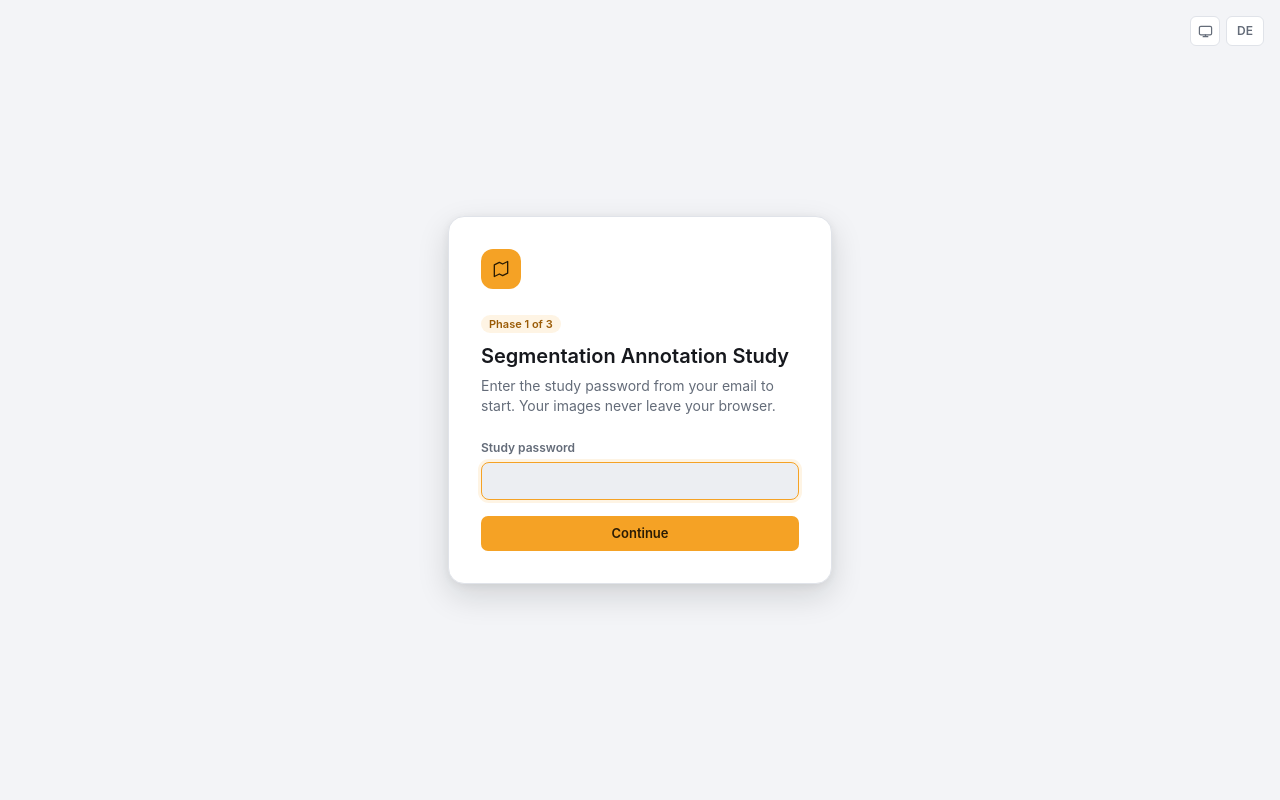
Test: App › study entry flow › walks from the password through consent and the survey into the workspace
Later steps or results of the test are not shown.
Type "CI-studie-2026-teil1" into the password field labelled "Study password" at (640, 481), box [481, 462, 799, 500]
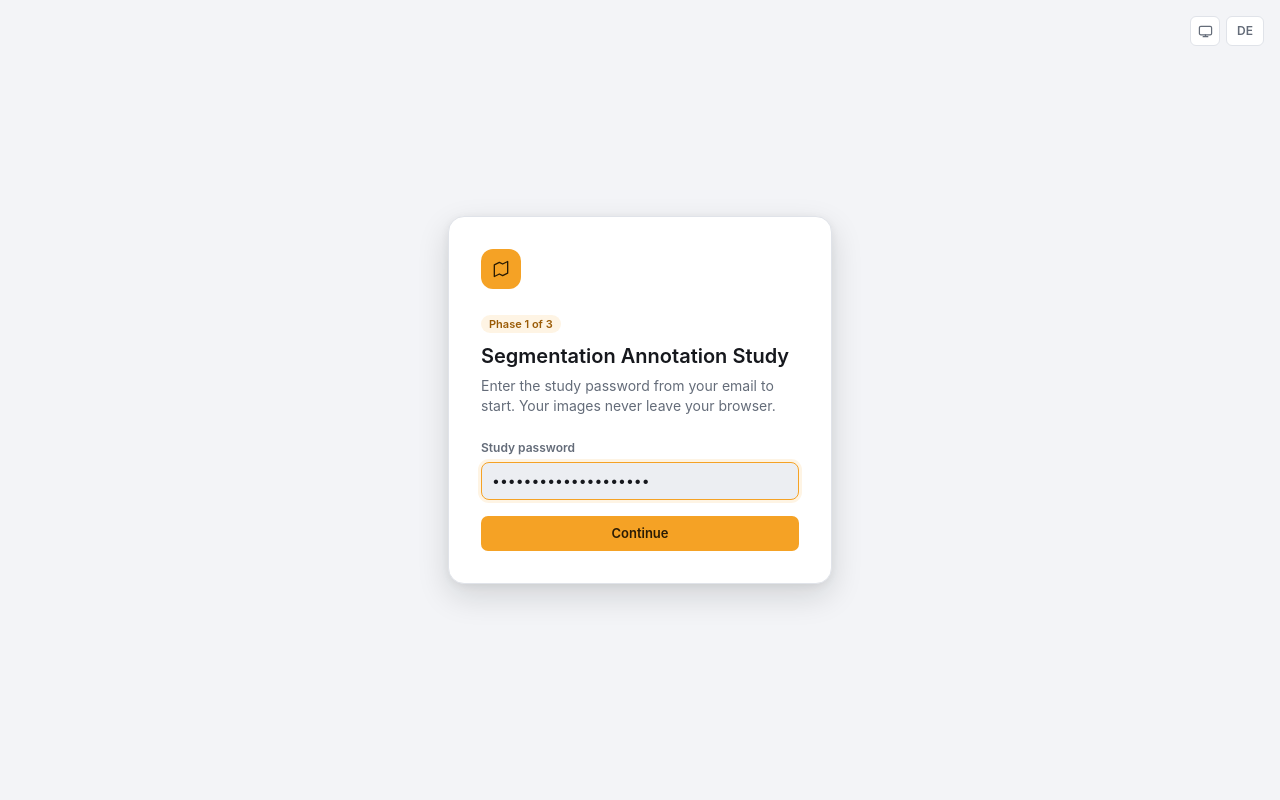
Click the button "Continue" at (640, 533), box [481, 516, 799, 551]
(page scrolled)
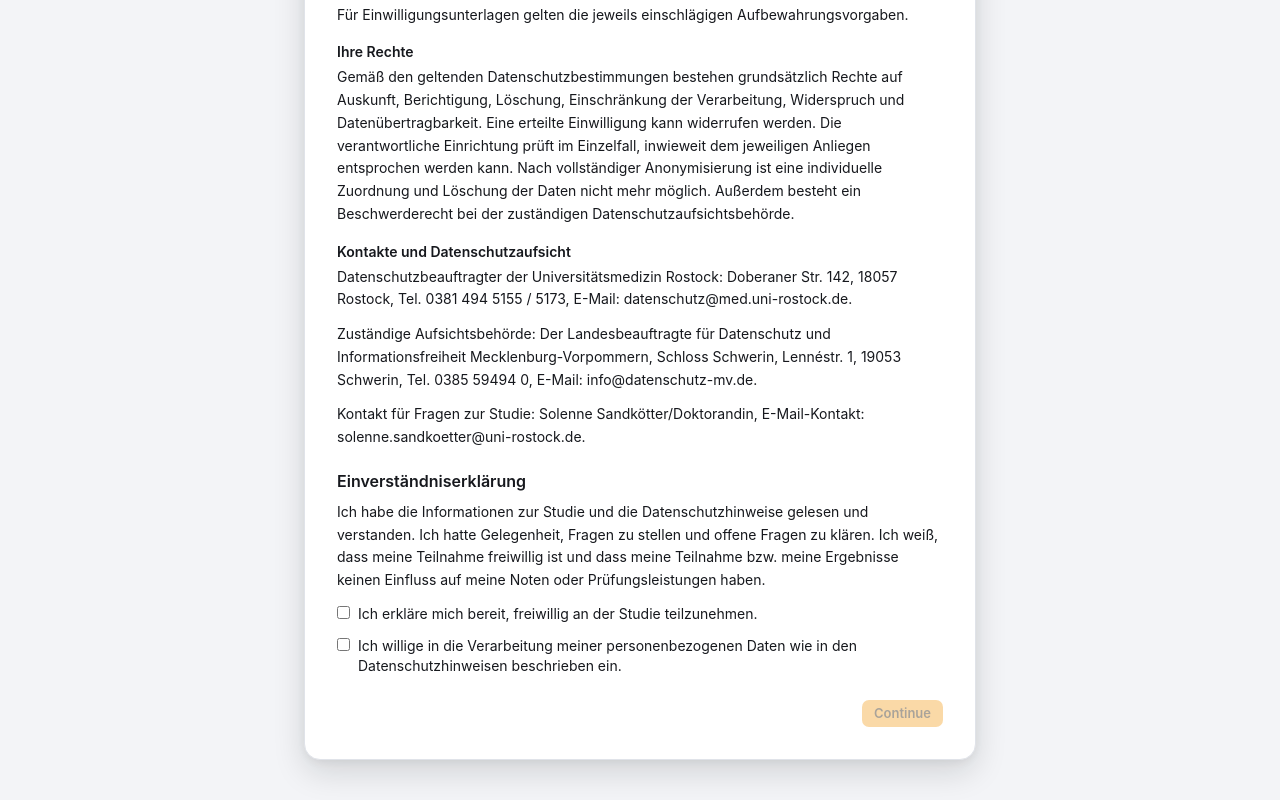
Click the checkbox labelled "freiwillig an der Studie teilzunehmen" at (344, 612), box [337, 606, 350, 619]
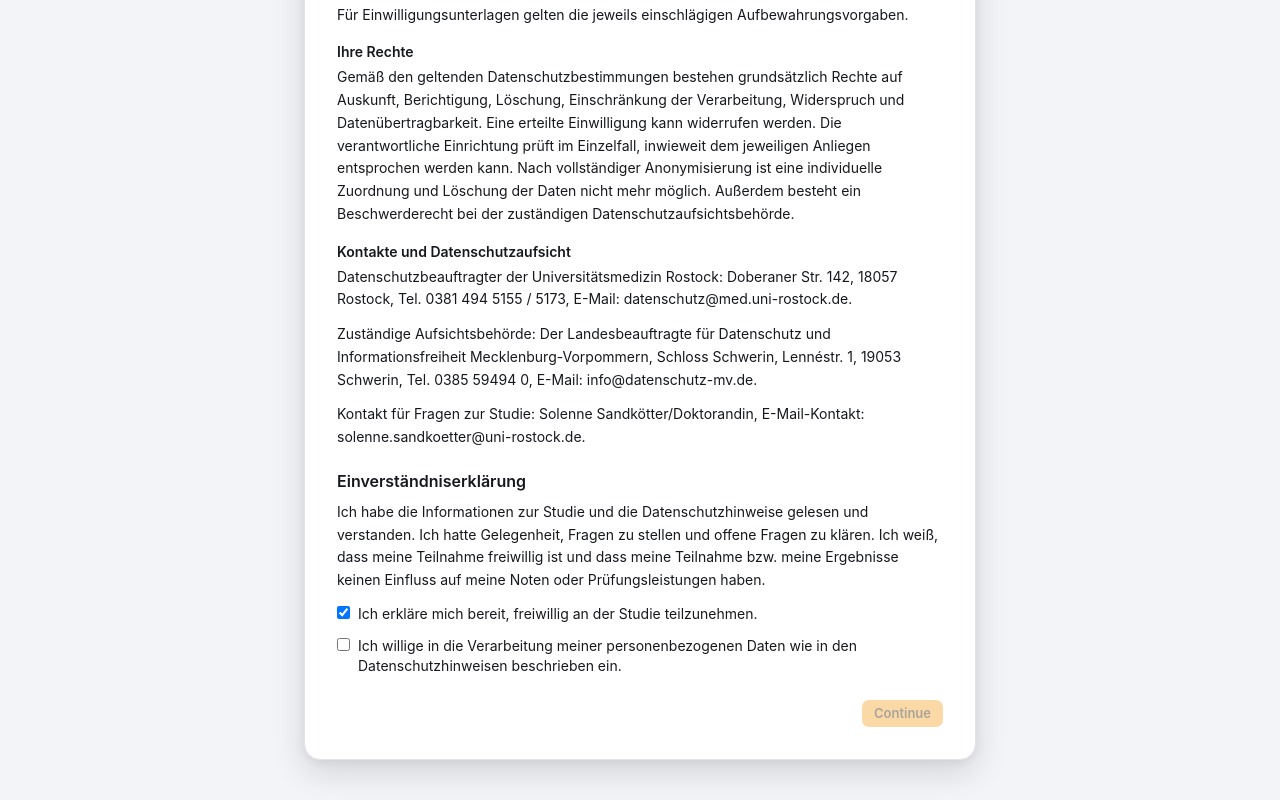
Click the checkbox labelled "Verarbeitung meiner personenbezogenen Daten" at (344, 644), box [337, 638, 350, 651]
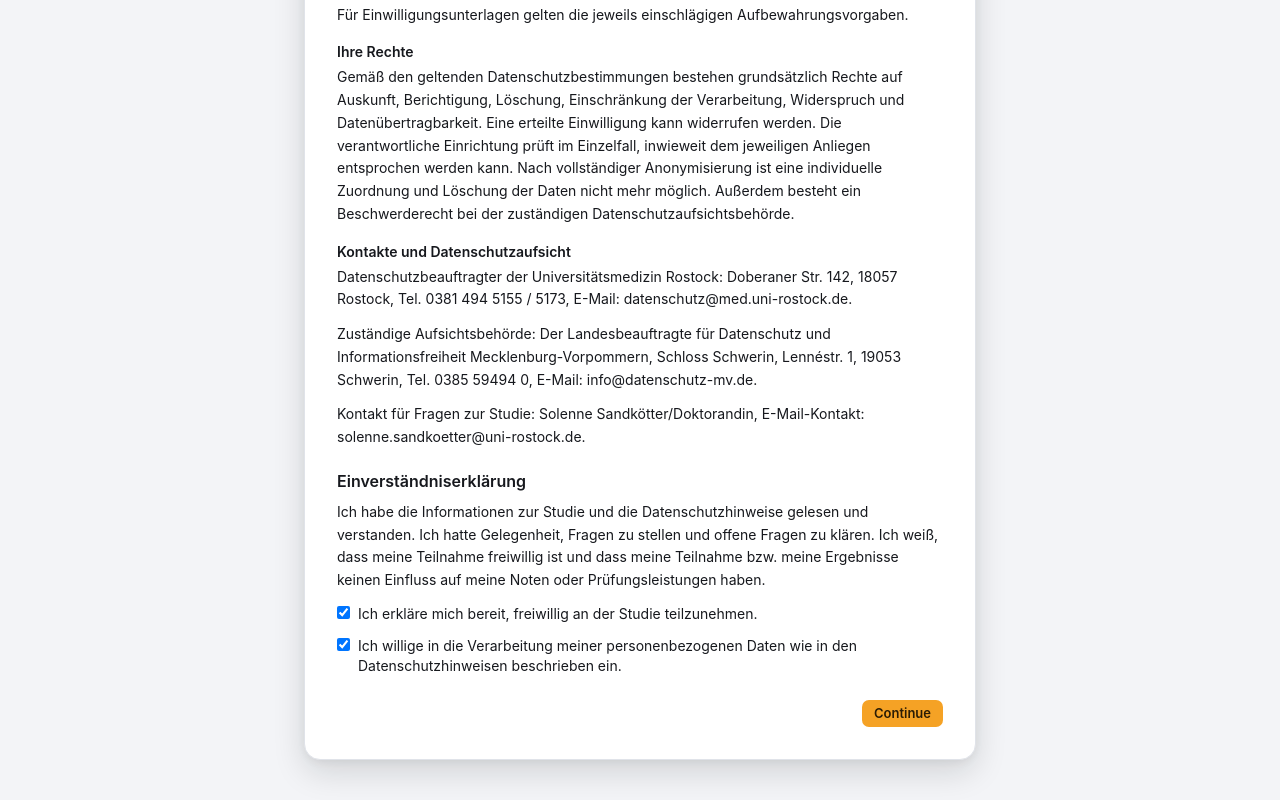
Click the button "Continue" at (902, 713), box [862, 700, 943, 727]
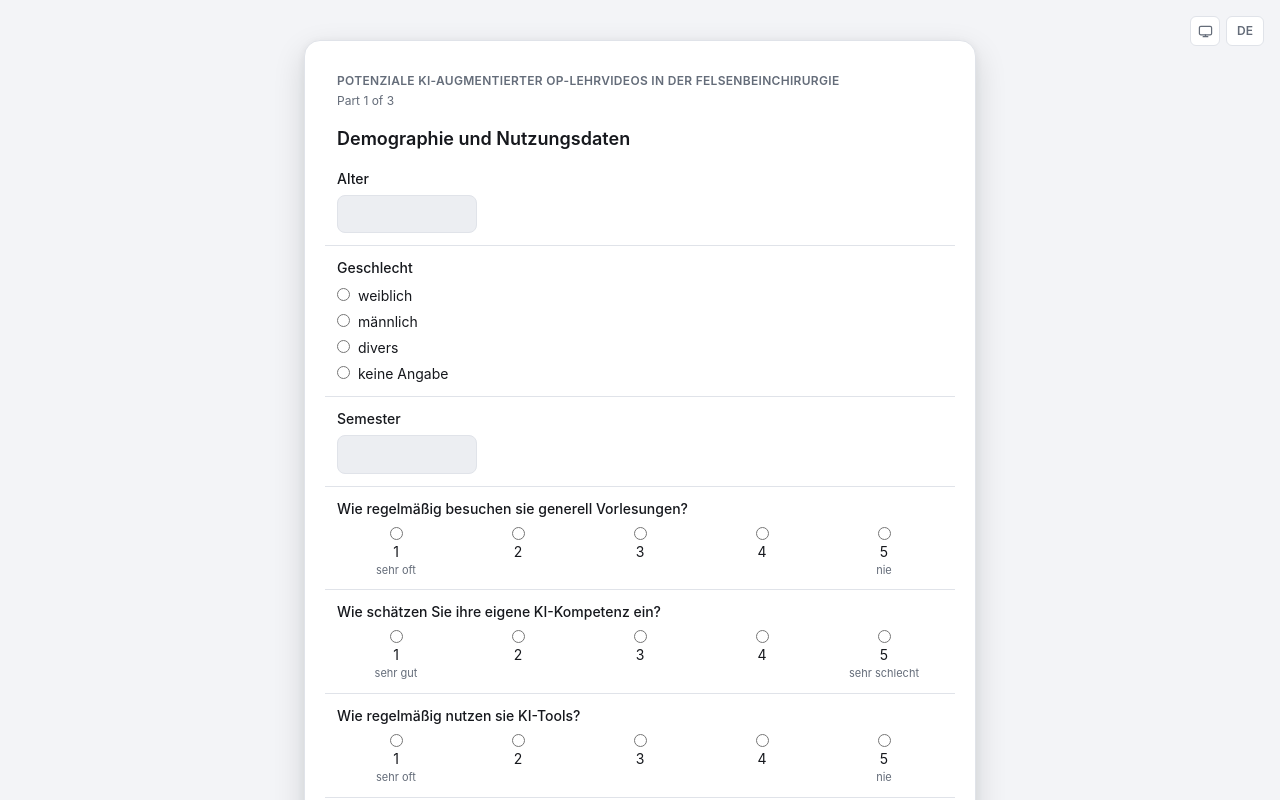
expect the text "Part 1 of 3" is shown: met, box [337, 93, 394, 108]
